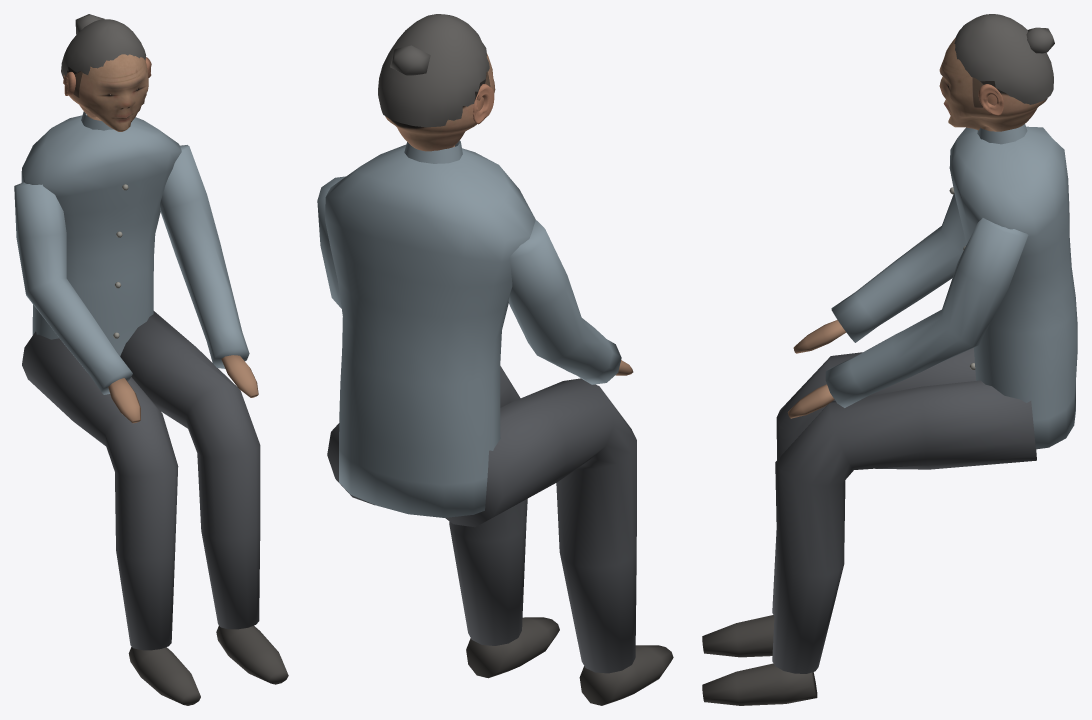
Rendered from guest_c.glb.
3 views of the same model, side by side, from view 1: azimuth 30°, elevation 25°; view 2: azimuth 150°, elevation 25°; view 3: azimuth 270°, elevation 25° (orthographic). The views are drawn at different scales.
Visible parts, largest first — view 1: GTorso, GLegR, GLegL, GSleeveL, GSleeveR, Head, GHairShell, GFootL, GFootR, GHandL, GHandR; view 2: GTorso, GLegL, GLegR, GSleeveL, GHairShell, GFootL, GFootR, Head, GSleeveR, GBun, GCollar, EarL; view 3: GLegR, GTorso, GSleeveR, GSleeveL, GHairShell, GLegL, Head, GFootR, GFootL, GHandL, GHandR, GCollar (+1 smaller).
Part boxes in pixels (x1,y1,x2,y2): GTorso: [21, 114, 181, 356]; GLegR: [120, 311, 260, 629]; GLegL: [22, 331, 178, 650]; GSleeveL: [14, 182, 132, 394]; GSleeveR: [160, 145, 249, 368]; Head: [63, 54, 148, 131]; GHairShell: [61, 19, 146, 78]; GFootL: [128, 646, 200, 705]; GFootR: [216, 625, 288, 684]; GHandL: [108, 378, 140, 423]; GHandR: [221, 355, 258, 397]; GTorso: [325, 144, 535, 517]; GLegL: [445, 378, 636, 673]; GLegR: [327, 366, 527, 645]; GSleeveL: [508, 220, 621, 384]; GHairShell: [378, 14, 489, 127]; GFootL: [579, 645, 673, 705]; GFootR: [466, 617, 559, 678]; Head: [385, 53, 495, 151]; GSleeveR: [317, 176, 345, 308]; GBun: [390, 45, 430, 76]; GCollar: [404, 140, 462, 163]; EarL: [473, 84, 494, 124]; GLegR: [772, 380, 1036, 673]; GTorso: [949, 126, 1077, 449]; GSleeveR: [825, 218, 1028, 407]; GSleeveL: [831, 194, 966, 342]; GHairShell: [954, 14, 1053, 104]; GLegL: [772, 347, 975, 615]; Head: [939, 38, 1047, 131]; GFootR: [702, 663, 817, 705]; GFootL: [702, 615, 774, 657]; GHandL: [793, 320, 846, 353]; GHandR: [787, 384, 834, 418]; GCollar: [977, 124, 1027, 144].
Size of the model in its own units: 0.3962 by 1.15 by 0.5919.
Materials: 7 (1 with a texture image).
